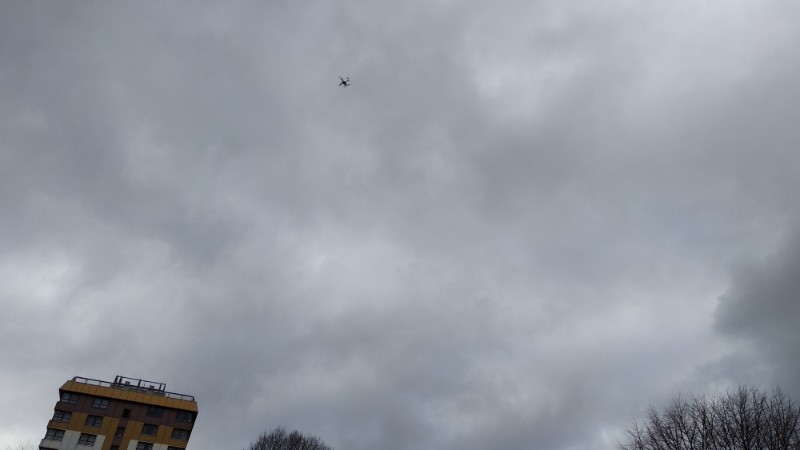drone: (338, 76, 350, 86)
